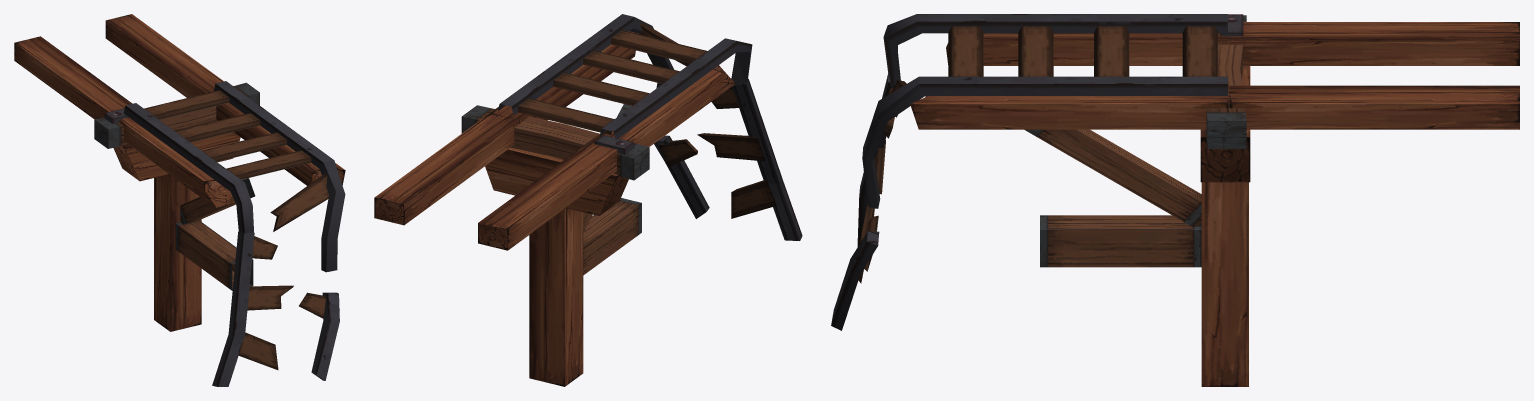
Rendered from 2_DG_TieGuiMuJia_01.FBX.
3 renders of one model, left to right at view 1: azimuth 30°, elevation 25°; view 2: azimuth 150°, elevation 25°; view 3: azimuth 270°, elevation 25°, orthographic. The views are drawn at different scales.
Visible parts, largest first — view 1: 2_DG_TieGui_05, 2_DG_TieGuiMuJia_04 (×2), 2_DG_TieGuiMuJia_01, 2_DG_TieGui_06, 2_DG_TieGuiMuJia_02, 2_DG_TieGuiMuJia_03; view 2: 2_DG_TieGui_05, 2_DG_TieGuiMuJia_01, 2_DG_TieGuiMuJia_04 (×2), 2_DG_TieGui_06, 2_DG_TieGuiMuJia_03, 2_DG_TieGuiMuJia_02, 2_DG_TieGuiMuJia_06; view 3: 2_DG_TieGuiMuJia_01, 2_DG_TieGuiMuJia_04 (×2), 2_DG_TieGui_05, 2_DG_TieGuiMuJia_02, 2_DG_TieGuiMuJia_03, 2_DG_TieGui_06.
Boxes of the visible parts, x1,y1,x2,y2 form: 2_DG_TieGui_05: (123,81,345,272); 2_DG_TieGuiMuJia_04 (×2): (154,174,255,331); 2_DG_TieGuiMuJia_01: (14,14,223,119); 2_DG_TieGui_06: (212,232,339,386); 2_DG_TieGuiMuJia_02: (119,103,345,207); 2_DG_TieGuiMuJia_03: (94,82,259,181); 2_DG_TieGui_05: (498,14,752,140); 2_DG_TieGuiMuJia_01: (374,113,617,250); 2_DG_TieGuiMuJia_04 (×2): (529,104,641,386); 2_DG_TieGui_06: (654,78,802,240); 2_DG_TieGuiMuJia_03: (461,105,649,215); 2_DG_TieGuiMuJia_02: (478,31,735,250); 2_DG_TieGuiMuJia_06: (594,135,634,154); 2_DG_TieGuiMuJia_01: (1229,22,1519,129); 2_DG_TieGuiMuJia_04 (×2): (1024,129,1248,386); 2_DG_TieGui_05: (862,14,1227,208); 2_DG_TieGuiMuJia_02: (910,33,1228,129); 2_DG_TieGuiMuJia_03: (1200,15,1250,182); 2_DG_TieGui_06: (831,73,895,330).
Size of the model in its own units: 376 by 494 by 945.
